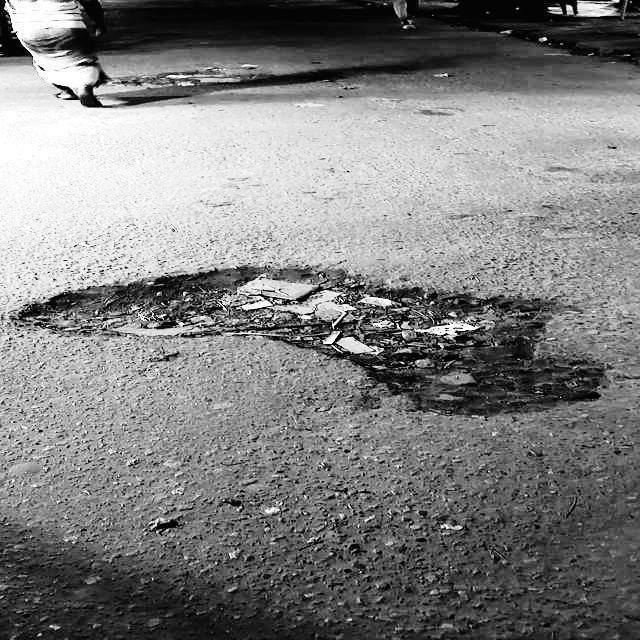Pothole: (24, 256, 583, 411)
